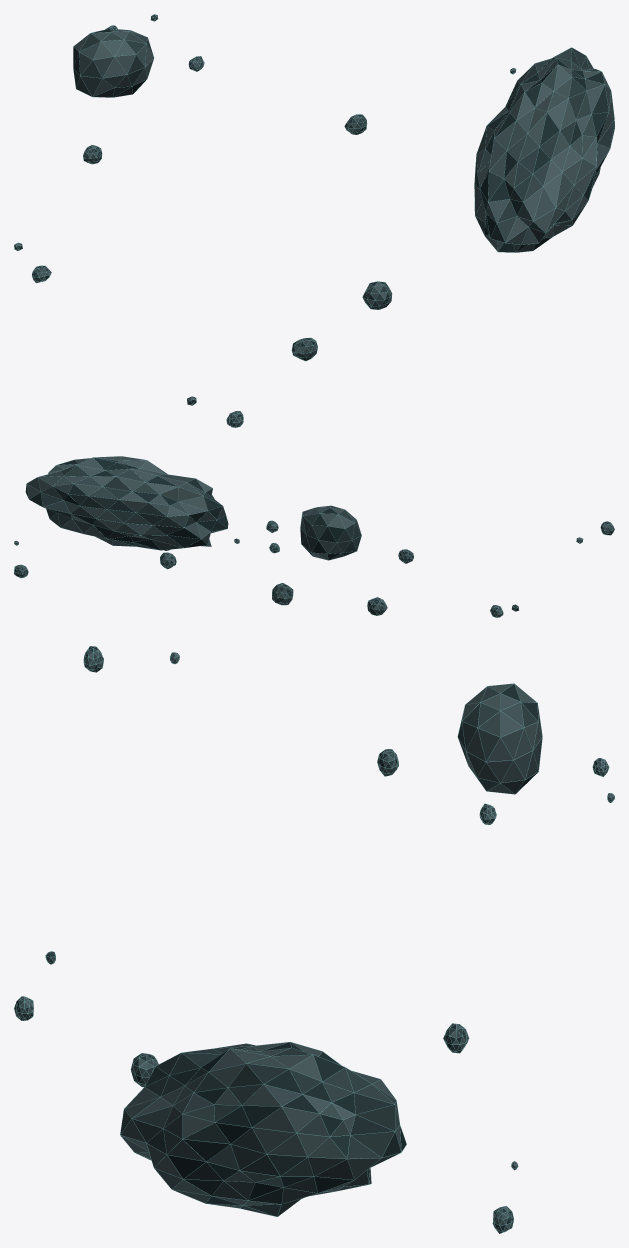
The model's file is asteroid_field.glb.
3 renders of one model, top to bottom at view 1: azimuth 30°, elevation 25°; view 2: azimuth 150°, elevation 25°; view 3: azimuth 270°, elevation 25°, orthographic. The views are drawn at different scales.
Parts seen in each view (by area): view 1: Foreground | large diagonal fractured asteroid, Sector | asteroid 00, ForegroundAsteroid_ROOT | rock physical edge accents, SectorAsteroid_00_ROOT | rock physical edge accents, Sector | asteroid 10; view 2: Foreground | large diagonal fractured asteroid, Sector | asteroid 00, ForegroundAsteroid_ROOT | rock physical edge accents, SectorAsteroid_00_ROOT | rock physical edge accents, Sector | asteroid 10, Sector | asteroid 09; view 3: Foreground | large diagonal fractured asteroid, Sector | asteroid 00, ForegroundAsteroid_ROOT | rock physical edge accents, SectorAsteroid_00_ROOT | rock physical edge accents.
Boxes of the visible parts, x1,y1,x2,y2 form: Foreground | large diagonal fractured asteroid: (474,48,614,252); Sector | asteroid 00: (73,29,153,97); ForegroundAsteroid_ROOT | rock physical edge accents: (474,47,614,252); SectorAsteroid_00_ROOT | rock physical edge accents: (73,28,154,97); Sector | asteroid 10: (363,281,391,309); Foreground | large diagonal fractured asteroid: (26,456,228,550); Sector | asteroid 00: (300,505,361,560); ForegroundAsteroid_ROOT | rock physical edge accents: (25,456,228,550); SectorAsteroid_00_ROOT | rock physical edge accents: (300,505,361,560); Sector | asteroid 10: (272,583,293,604); Sector | asteroid 09: (367,597,387,615); Foreground | large diagonal fractured asteroid: (120,1042,406,1216); Sector | asteroid 00: (458,683,542,794); ForegroundAsteroid_ROOT | rock physical edge accents: (120,1042,406,1216); SectorAsteroid_00_ROOT | rock physical edge accents: (457,683,542,794).
Bounding box in the file's own units: 42.21 × 15.57 × 23.68.
